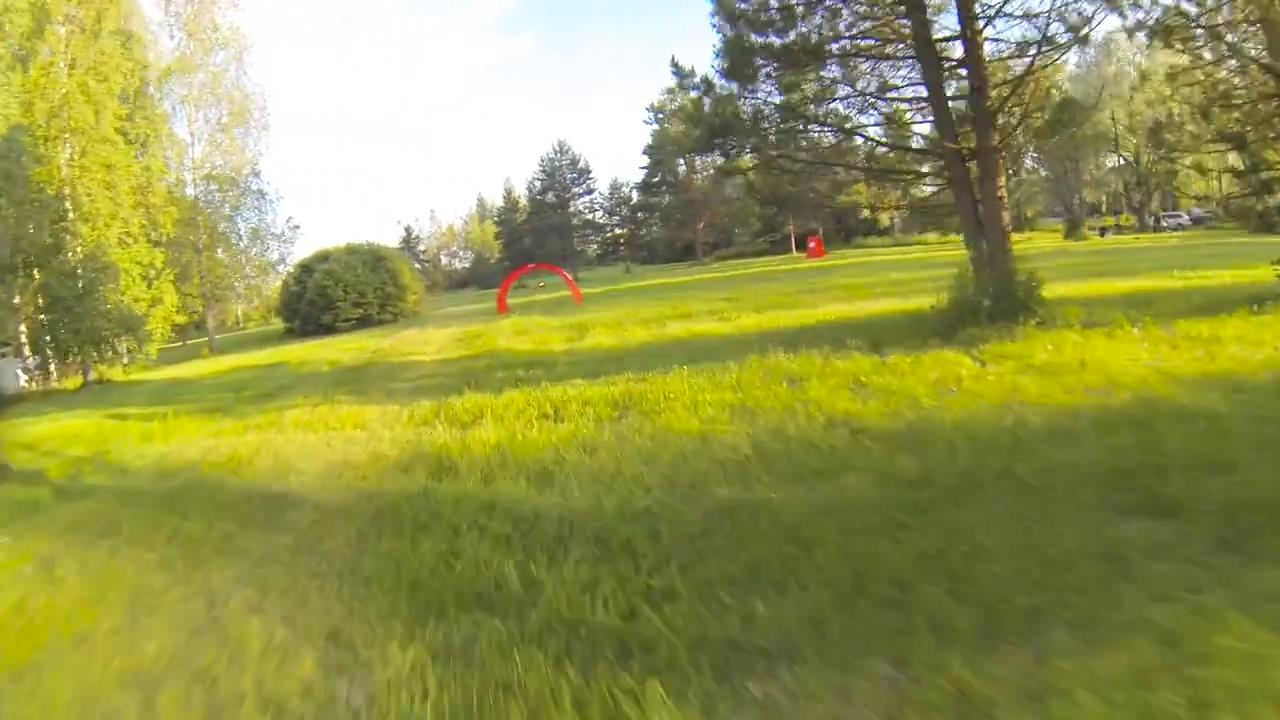gate: (494, 260, 586, 317)
